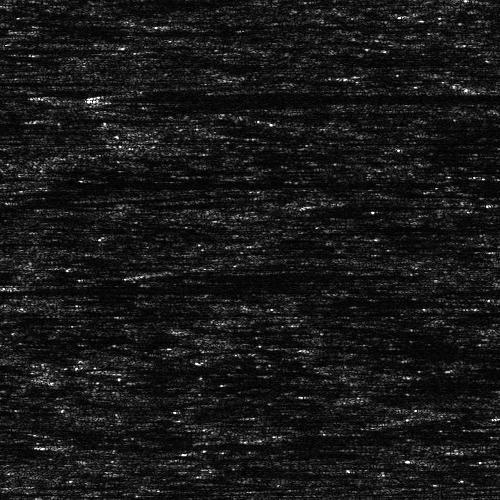object: (77, 89, 160, 104), (49, 439, 90, 450), (102, 354, 113, 387), (0, 282, 47, 289), (0, 178, 14, 183)
shadow: (119, 89, 500, 104), (107, 354, 248, 387), (70, 439, 349, 450), (0, 282, 192, 295), (0, 178, 410, 183), (15, 282, 293, 289), (0, 127, 54, 134), (0, 45, 49, 52)
